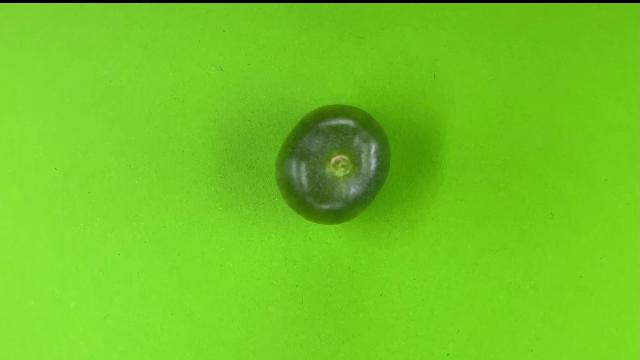Fruit Maturation: (272, 101, 394, 229)
